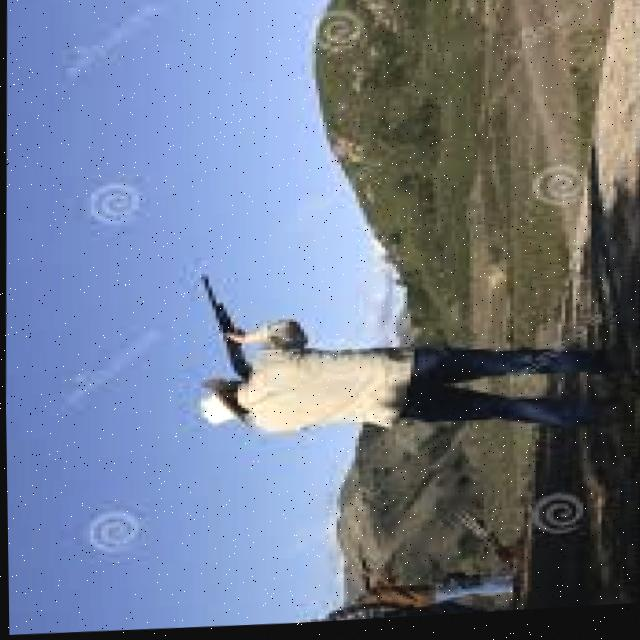firearm: (192, 272, 253, 385)
